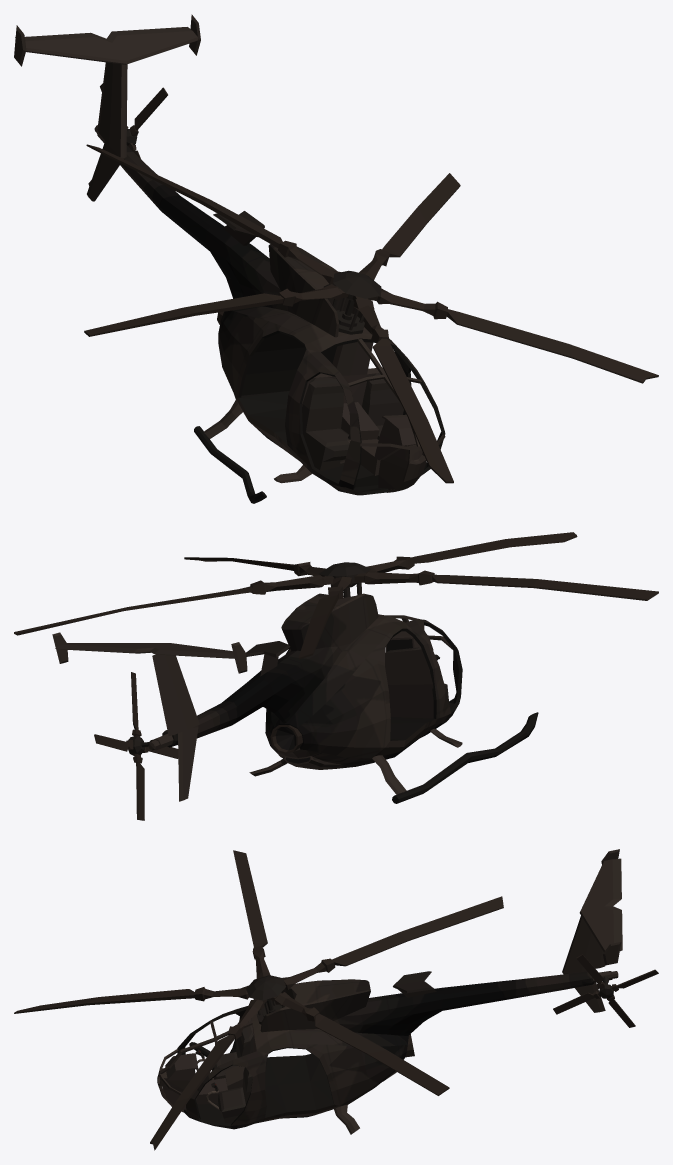
File: SM_Veh_Helicopter_Attack_02_Destroyed.fbx
3 renders of one model, top to bottom at view 1: azimuth 30°, elevation 25°; view 2: azimuth 150°, elevation 25°; view 3: azimuth 270°, elevation 25°, orthographic. The views are drawn at different scales.
Parts seen in each view (by area): view 1: SM_Veh_Helicopter_Attack_02_Destroyed; view 2: SM_Veh_Helicopter_Attack_02_Destroyed; view 3: SM_Veh_Helicopter_Attack_02_Destroyed.
Part boxes in pixels (x1,y1,x2,y2): SM_Veh_Helicopter_Attack_02_Destroyed: (14, 14, 658, 503); SM_Veh_Helicopter_Attack_02_Destroyed: (14, 532, 658, 820); SM_Veh_Helicopter_Attack_02_Destroyed: (14, 849, 658, 1150).
Bounding box in the file's own units: 741 × 401 × 1020.
